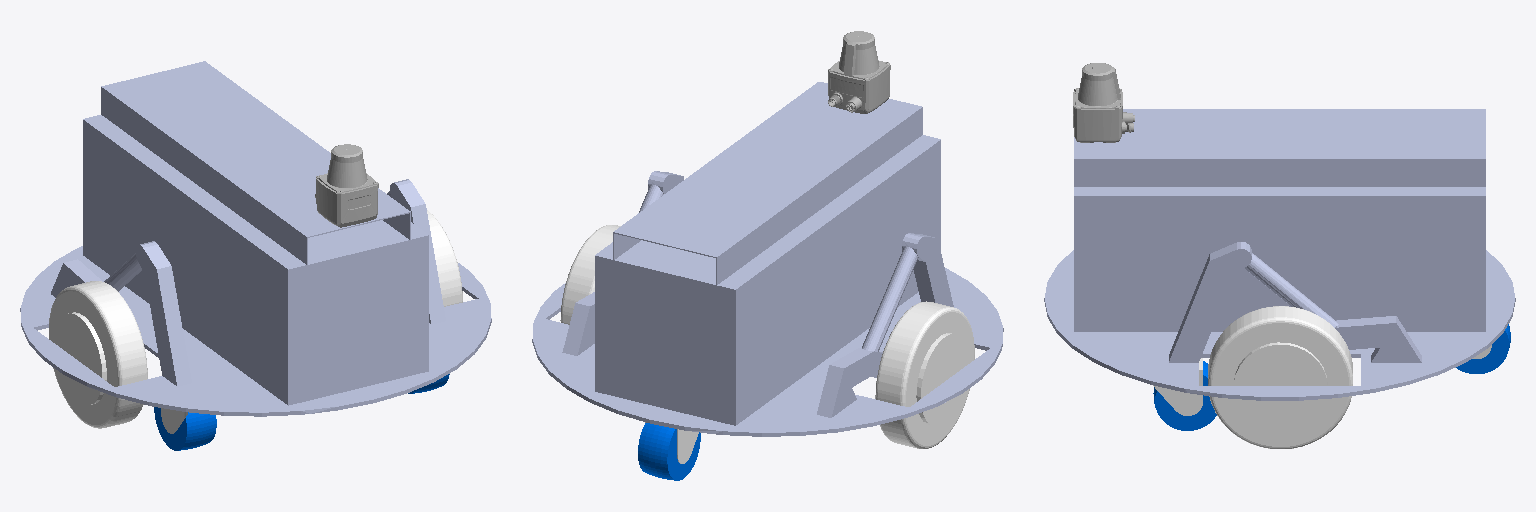
URDF robot description (Robot):
<?xml version="1.0"?>
<!-- This URDF was automatically created by SolidWorks to URDF Exporter! Originally created by [author] ([email redacted]) 
     Commit Version: 1.6.0-4-g7f85cfe  Build Version: 1.6.7995.38578
     For more information, please see http://wiki.ros.org/sw_urdf_exporter -->
<robot name="Robot">
  <link name="base_link">
    <inertial>
      <origin xyz="7.5516E-09 0.086873 -6.7966E-05" rpy="0 0 0" />
      <mass value="17.633" />
      <inertia ixx="0.38574" ixy="-9.0108E-09" ixz="1.6151E-09" iyy="0.39872" iyz="-0.00073205" izz="0.11528" />
    </inertial>
    <visual>
      <origin xyz="0 0 0" rpy="0 0 0" />
      <geometry>
        <mesh filename="package://move_cpp/meshes/base_link.STL" />
      </geometry>
      <material name="">
        <color rgba="0.79216 0.81961 0.93333 1" />
      </material>
    </visual>
    <collision>
      <origin xyz="0 0 0" rpy="0 0 0" />
      <geometry>
        <mesh filename="package://move_cpp/meshes/base_link.STL" />
      </geometry>
    </collision>
  </link>
  <link name="left_driving_Link">
    <inertial>
      <origin xyz="-4.63062747868559E-16 -2.40692882291782E-17 0.0309889918837253" rpy="0 0 0" />
      <mass value="1.01669745748013" />
      <inertia ixx="0.00188629675580071" ixy="0" ixz="-2.12338705966477E-17" iyy="0.00188629675580071" iyz="5.43860655034718E-20" izz="0.00341254418101847" />
    </inertial>
    <visual>
      <origin xyz="0 0 0" rpy="0 0 0" />
      <geometry>
        <mesh filename="package://move_cpp/meshes/left_driving_Link.STL" />
      </geometry>
      <material name="">
        <color rgba="1 1 1 1" />
      </material>
    </visual>
    <collision>
      <origin xyz="0 0 0" rpy="0 0 0" />
      <geometry>
        <mesh filename="package://move_cpp/meshes/left_driving_Link.STL" />
      </geometry>
    </collision>
  </link>
  <joint name="left_driving_joint" type="continuous">
    <origin xyz="0.181 0.00078683 0.00072229" rpy="1.5708 -0.0050366 1.5708" />
    <parent link="base_link" />
    <child link="left_driving_Link" />
    <axis xyz="0 0 -1" />
  </joint>
  <link name="right_driving_Link">
    <inertial>
      <origin xyz="-3.01841884819964E-16 1.23219576902978E-15 0.0309889918837247" rpy="0 0 0" />
      <mass value="1.01669745748013" />
      <inertia ixx="0.00188629675580071" ixy="-5.42101086242752E-20" ixz="-2.15223840234165E-17" iyy="0.00188629675580071" iyz="-1.93642331809034E-19" izz="0.00341254418101847" />
    </inertial>
    <visual>
      <origin xyz="0 0 0" rpy="0 0 0" />
      <geometry>
        <mesh filename="package://move_cpp/meshes/right_driving_Link.STL" />
      </geometry>
      <material name="">
        <color rgba="1 1 1 1" />
      </material>
    </visual>
    <collision>
      <origin xyz="0 0 0" rpy="0 0 0" />
      <geometry>
        <mesh filename="package://move_cpp/meshes/right_driving_Link.STL" />
      </geometry>
    </collision>
  </link>
  <joint name="right_driving_joint" type="continuous">
    <origin xyz="-0.181 0.00078683 0.00072229" rpy="-1.5708 -1.4241 1.5708" />
    <parent link="base_link" />
    <child link="right_driving_Link" />
    <axis xyz="0 0 -1" />
  </joint>
  <link name="left_front_Link">
    <inertial>
      <origin xyz="1.43779432804081E-12 0.0168544398985724 0.0240047071523703" rpy="0 0 0" />
      <mass value="0.00854174955709271" />
      <inertia ixx="5.38481577543374E-06" ixy="-4.82200125550984E-16" ixz="-3.13689126203696E-16" iyy="5.74785615120537E-06" iyz="-8.16029471723187E-07" izz="5.61072560754906E-06" />
    </inertial>
    <visual>
      <origin xyz="0 0 0" rpy="0 0 0" />
      <geometry>
        <mesh filename="package://move_cpp/meshes/left_front_Link.STL" />
      </geometry>
      <material name="">
        <color rgba="1 1 1 1" />
      </material>
    </visual>
    <collision>
      <origin xyz="0 0 0" rpy="0 0 0" />
      <geometry>
        <mesh filename="package://move_cpp/meshes/left_front_Link.STL" />
      </geometry>
    </collision>
  </link>
  <joint name="left_front_joint" type="continuous">
    <origin xyz="0.15729 -0.14277 -0.004" rpy="-1.5708 0 0.0049713" />
    <parent link="base_link" />
    <child link="left_front_Link" />
    <axis xyz="0 1 0" />
  </joint>
  <link name="passive_wheel_0_Link">
    <inertial>
      <origin xyz="0 0 5.05032127229299E-11" rpy="0 0 0" />
      <mass value="0.195523886399782" />
      <inertia ixx="0.000101585097845165" ixy="1.01643953670516E-20" ixz="4.61897654049611E-20" iyy="0.000101585097845165" iyz="-9.55559043621258E-21" izz="0.000152207619860465" />
    </inertial>
    <visual>
      <origin xyz="0 0 0" rpy="0 0 0" />
      <geometry>
        <mesh filename="package://move_cpp/meshes/passive_wheel_0_Link.STL" />
      </geometry>
      <material name="">
        <color rgba="0 0.501960784313725 1 1" />
      </material>
    </visual>
    <collision>
      <origin xyz="0 0 0" rpy="0 0 0" />
      <geometry>
        <mesh filename="package://move_cpp/meshes/passive_wheel_0_Link.STL" />
      </geometry>
    </collision>
  </link>
  <joint name="passive_wheel_0_joint" type="continuous">
    <origin xyz="0 0.042 0.035" rpy="-1.5708 -0.3508 1.5708" />
    <parent link="left_front_Link" />
    <child link="passive_wheel_0_Link" />
    <axis xyz="0 0 1" />
  </joint>
  <link name="right_front_Link">
    <inertial>
      <origin xyz="-1.08363040762782E-11 0.0168544398944123 0.0240047071715747" rpy="0 0 0" />
      <mass value="0.00854174955074793" />
      <inertia ixx="5.38481577652588E-06" ixy="3.61361802777327E-15" ixz="2.34062557196604E-15" iyy="5.74785614645718E-06" iyz="-8.16029474857217E-07" izz="5.61072560438381E-06" />
    </inertial>
    <visual>
      <origin xyz="0 0 0" rpy="0 0 0" />
      <geometry>
        <mesh filename="package://move_cpp/meshes/right_front_Link.STL" />
      </geometry>
      <material name="">
        <color rgba="1 1 1 1" />
      </material>
    </visual>
    <collision>
      <origin xyz="0 0 0" rpy="0 0 0" />
      <geometry>
        <mesh filename="package://move_cpp/meshes/right_front_Link.STL" />
      </geometry>
    </collision>
  </link>
  <joint name="right_front_joint" type="continuous">
    <origin xyz="-0.15729 -0.14277 -0.004" rpy="-1.5708 0 -0.039249" />
    <parent link="base_link" />
    <child link="right_front_Link" />
    <axis xyz="0 1 0" />
  </joint>
  <link name="passive_wheel_1_Link">
    <inertial>
      <origin xyz="0 0 5.05031572117787E-11" rpy="0 0 0" />
      <mass value="0.195523886399782" />
      <inertia ixx="0.000101585097845165" ixy="-1.01643953670516E-20" ixz="-6.35274710440725E-21" iyy="0.000101585097845165" iyz="-3.70576914423756E-20" izz="0.000152207619860462" />
    </inertial>
    <visual>
      <origin xyz="0 0 0" rpy="0 0 0" />
      <geometry>
        <mesh filename="package://move_cpp/meshes/passive_wheel_1_Link.STL" />
      </geometry>
      <material name="">
        <color rgba="0 0.501960784313725 1 1" />
      </material>
    </visual>
    <collision>
      <origin xyz="0 0 0" rpy="0 0 0" />
      <geometry>
        <mesh filename="package://move_cpp/meshes/passive_wheel_1_Link.STL" />
      </geometry>
    </collision>
  </link>
  <joint name="passive_wheel_1_joint" type="continuous">
    <origin xyz="0 0.042 0.035" rpy="-1.5708 -0.33634 1.5708" />
    <parent link="right_front_Link" />
    <child link="passive_wheel_1_Link" />
    <axis xyz="0 0 1" />
  </joint>
  <link name="rear_Link">
    <inertial>
      <origin xyz="-2.68786924141617E-12 0.0168544398980482 0.0240047071547982" rpy="0 0 0" />
      <mass value="0.00854174955629311" />
      <inertia ixx="5.38481577556837E-06" ixy="9.00815815210841E-16" ixz="5.85717754151134E-16" iyy="5.74785615060528E-06" iyz="-8.16029472118629E-07" izz="5.61072560715145E-06" />
    </inertial>
    <visual>
      <origin xyz="0 0 0" rpy="0 0 0" />
      <geometry>
        <mesh filename="package://move_cpp/meshes/rear_Link.STL" />
      </geometry>
      <material name="">
        <color rgba="1 1 1 1" />
      </material>
    </visual>
    <collision>
      <origin xyz="0 0 0" rpy="0 0 0" />
      <geometry>
        <mesh filename="package://move_cpp/meshes/rear_Link.STL" />
      </geometry>
    </collision>
  </link>
  <joint name="rear_joint" type="continuous">
    <origin xyz="0 0.19455 -0.004" rpy="-1.5708 0 -0.0093472" />
    <parent link="base_link" />
    <child link="rear_Link" />
    <axis xyz="0 1 0" />
  </joint>
  <link name="passive_wheel_2_Link">
    <inertial>
      <origin xyz="0 -2.77555756156289E-17 5.05033920499692E-11" rpy="0 0 0" />
      <mass value="0.195523886399782" />
      <inertia ixx="0.000101585097845164" ixy="6.7762635780344E-21" ixz="3.70576914423756E-22" iyy="0.000101585097845164" iyz="5.82335151237331E-21" izz="0.000152207619860464" />
    </inertial>
    <visual>
      <origin xyz="0 0 0" rpy="0 0 0" />
      <geometry>
        <mesh filename="package://move_cpp/meshes/passive_wheel_2_Link.STL" />
      </geometry>
      <material name="">
        <color rgba="0 0.501960784313725 1 1" />
      </material>
    </visual>
    <collision>
      <origin xyz="0 0 0" rpy="0 0 0" />
      <geometry>
        <mesh filename="package://move_cpp/meshes/passive_wheel_2_Link.STL" />
      </geometry>
    </collision>
  </link>
  <joint name="passive_wheel_2_joint" type="continuous">
    <origin xyz="0 0.042 0.035" rpy="-1.5708 -0.3659 1.5708" />
    <parent link="rear_Link" />
    <child link="passive_wheel_2_Link" />
    <axis xyz="0 0 1" />
  </joint>
  <link name="radar_Link">
    <inertial>
      <origin xyz="-0.000369978038384704 0.0290775933705676 -0.00216332084825774" rpy="0 0 0" />
      <mass value="0.043628652916038" />
      <inertia ixx="2.53119064485714E-05" ixy="-2.23179603389942E-08" ixz="-1.68596400089959E-07" iyy="3.41480569853177E-05" iyz="-9.82146322846613E-08" izz="2.47076967926257E-05" />
    </inertial>
    <visual>
      <origin xyz="0 0 0" rpy="0 0 0" />
      <geometry>
        <mesh filename="package://move_cpp/meshes/radar_Link.STL" />
      </geometry>
      <material name="">
        <color rgba="0.752941176470588 0.752941176470588 0.752941176470588 1" />
      </material>
    </visual>
    <collision>
      <origin xyz="0 0 0" rpy="0 0 0" />
      <geometry>
        <mesh filename="package://move_cpp/meshes/radar_Link.STL" />
      </geometry>
    </collision>
  </link>
  <joint name="radar_joint" type="fixed">
    <origin xyz="-0.0013807 -0.2147 0.2159" rpy="1.5707 0 0" />
    <parent link="base_link" />
    <child link="radar_Link" />
    <axis xyz="0 0 0" />
  </joint>
</robot>

--- Render facts (derived) ---
The picture shows the robot from 3 angles, left to right: view 1: azimuth 30°, elevation 25°; view 2: azimuth 150°, elevation 25°; view 3: azimuth 270°, elevation 25°; orthographic projection.
Model Robot with 10 links and 9 joints (8 continuous, 1 fixed), rooted at base_link, posed all joints at 0.
Links seen in each view (by area): view 1: base_link, right_driving_Link, radar_Link, left_driving_Link, passive_wheel_1_Link; view 2: base_link, right_driving_Link, radar_Link, passive_wheel_2_Link, left_driving_Link, rear_Link; view 3: base_link, left_driving_Link, radar_Link, passive_wheel_0_Link, passive_wheel_2_Link, left_front_Link.
Boxes of the visible links, bbox=[...] form: base_link: bbox=[20, 61, 491, 416]; right_driving_Link: bbox=[49, 281, 147, 428]; radar_Link: bbox=[315, 144, 378, 227]; left_driving_Link: bbox=[427, 210, 462, 306]; passive_wheel_1_Link: bbox=[154, 407, 216, 450]; base_link: bbox=[532, 82, 1003, 436]; right_driving_Link: bbox=[875, 301, 974, 448]; radar_Link: bbox=[828, 31, 890, 113]; passive_wheel_2_Link: bbox=[638, 423, 700, 480]; left_driving_Link: bbox=[560, 225, 620, 324]; rear_Link: bbox=[645, 422, 698, 463]; base_link: bbox=[1044, 109, 1515, 400]; left_driving_Link: bbox=[1208, 306, 1352, 448]; radar_Link: bbox=[1073, 63, 1134, 142]; passive_wheel_0_Link: bbox=[1153, 361, 1216, 430]; passive_wheel_2_Link: bbox=[1456, 324, 1510, 373]; left_front_Link: bbox=[1153, 358, 1202, 415].
Bounding box of the posed robot: 0.5481 × 0.55 × 0.3868 m (x, y, z).
10 mesh visuals loaded from 10 distinct referenced files (10 binary STL).